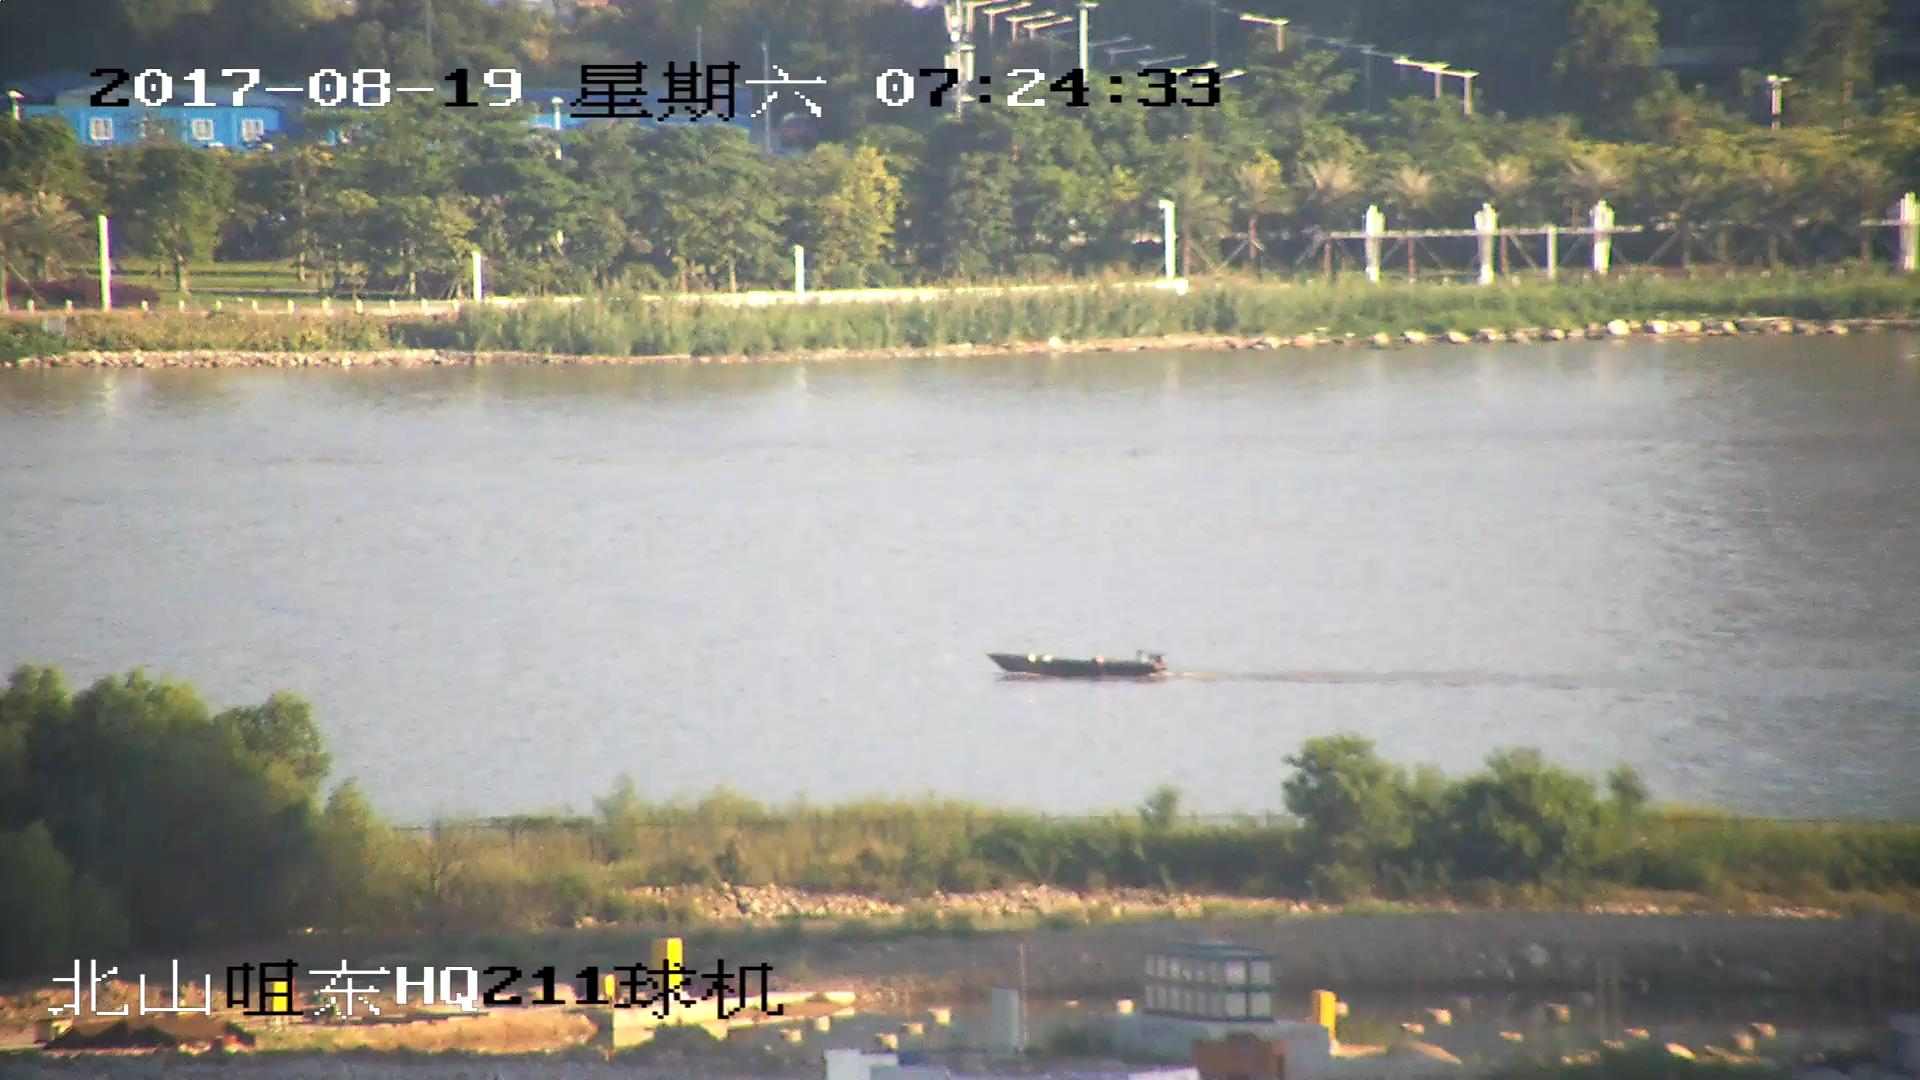fishing boat: (990, 647, 1164, 680)
